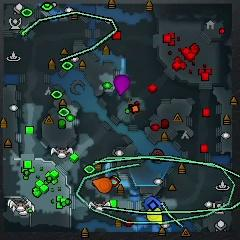p1: (143, 195, 162, 209)
p3: (115, 75, 130, 95)
p4: (145, 209, 163, 224)
p5: (93, 176, 112, 194)
